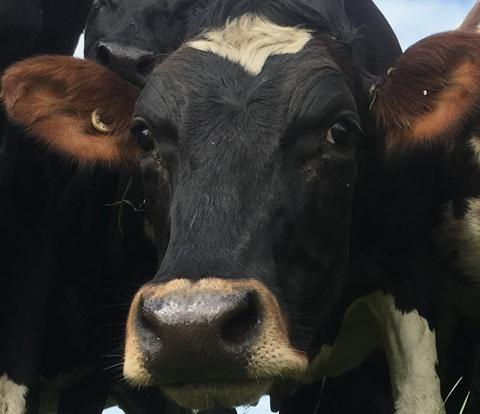muzzles: (116, 277, 310, 411)
